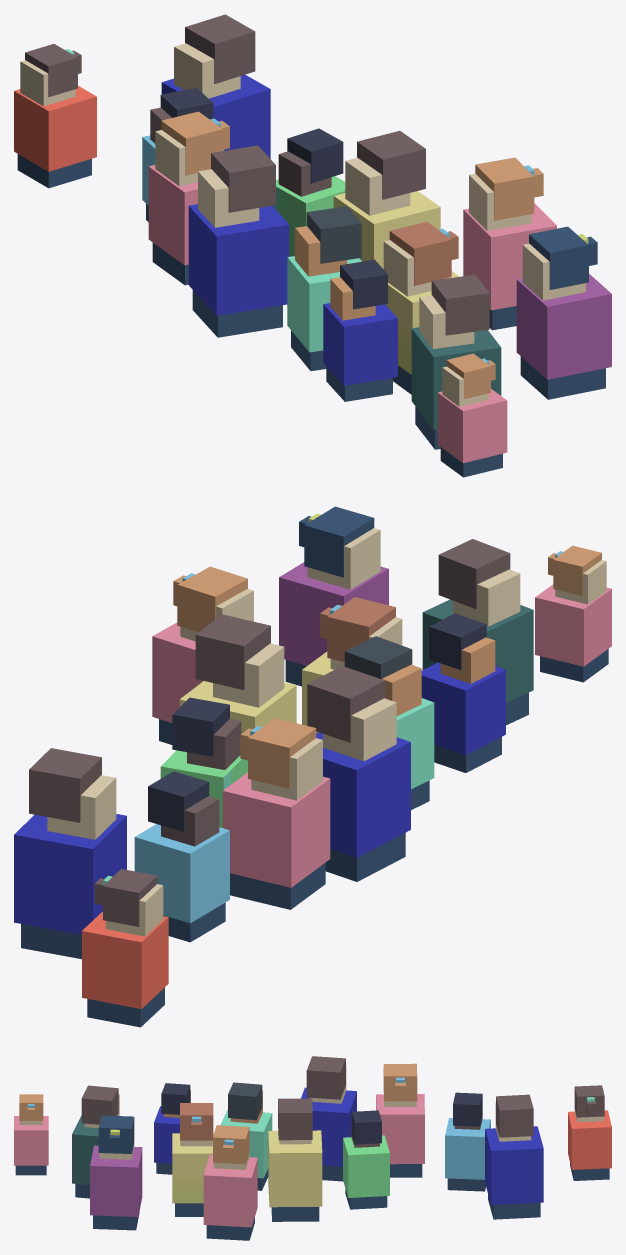
The model's file is Crowd.fbx.
3 renders of one model, top to bottom at view 1: azimuth 30°, elevation 25°; view 2: azimuth 150°, elevation 25°; view 3: azimuth 270°, elevation 25°, orthographic. The views are drawn at different scales.
Parts seen in each view (by area): view 1: Crowd6, Crowd11, Crowd2, group29, Crowd10, Crowd3, Crowd12, Crowd7, Crowd4, Crowd8, Crowd13, Crowd9 (+2 smaller); view 2: Crowd3, Crowd4, Crowd6, Crowd, Crowd2, Crowd11, Crowd10, Crowd12, Crowd7, Crowd13, group29, Crowd8 (+2 smaller); view 3: Crowd3, Crowd7, group29, Crowd11, Crowd4, Crowd6, Crowd5, Crowd9, Crowd2, Crowd, Crowd12, Crowd8 (+2 smaller).
Part boxes in pixels (box(x1,y1,x2,y2)): Crowd6: box(188, 145, 289, 337); Crowd11: box(516, 226, 611, 399); Crowd2: box(14, 44, 96, 188); group29: box(463, 157, 556, 330); Crowd10: box(323, 259, 397, 401); Crowd3: box(161, 14, 270, 158); Crowd12: box(411, 274, 501, 449); Crowd7: box(333, 130, 440, 268); Crowd4: box(148, 111, 229, 285); Crowd8: box(287, 206, 361, 370); Crowd13: box(437, 353, 507, 477); Crowd9: box(383, 222, 459, 394); Crowd3: box(14, 748, 126, 959); Crowd4: box(222, 718, 330, 909); Crowd6: box(307, 666, 410, 881); Crowd: box(134, 771, 229, 942); Crowd2: box(82, 869, 168, 1027); Crowd11: box(279, 506, 388, 686); Crowd10: box(421, 613, 505, 772); Crowd12: box(422, 539, 533, 725); Crowd7: box(179, 614, 296, 733); Crowd13: box(535, 545, 611, 682); group29: box(152, 566, 253, 744); Crowd8: box(344, 636, 434, 809); Crowd3: box(485, 1094, 543, 1219); Crowd7: box(268, 1098, 322, 1221); group29: box(203, 1125, 257, 1240); Crowd11: box(90, 1115, 142, 1230); Crowd4: box(376, 1063, 424, 1177); Crowd6: box(301, 1056, 356, 1181); Crowd5: box(343, 1110, 389, 1209); Crowd9: box(172, 1103, 213, 1216); Crowd2: box(568, 1085, 611, 1180); Crowd: box(445, 1092, 490, 1191); Crowd12: box(72, 1085, 119, 1198); Crowd8: box(220, 1082, 272, 1190).
Bounding box in the file's own units: 7.92 × 4.69 × 22.09.
